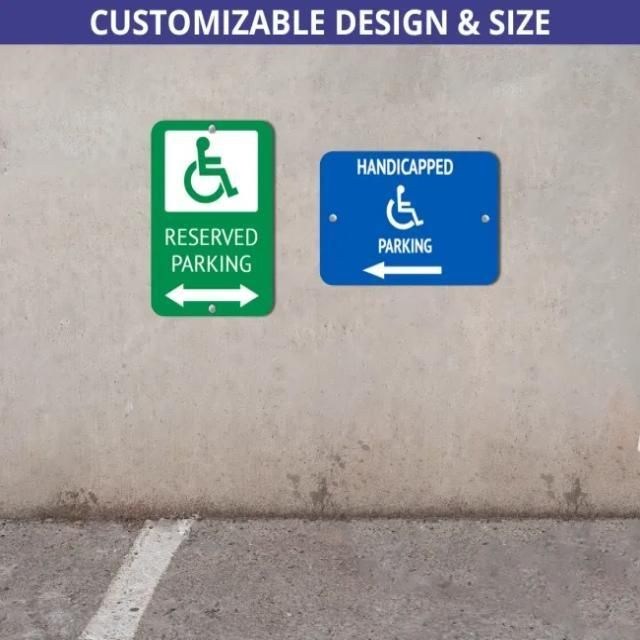symbol_of_access: (180, 135, 248, 209), (383, 180, 427, 236)
